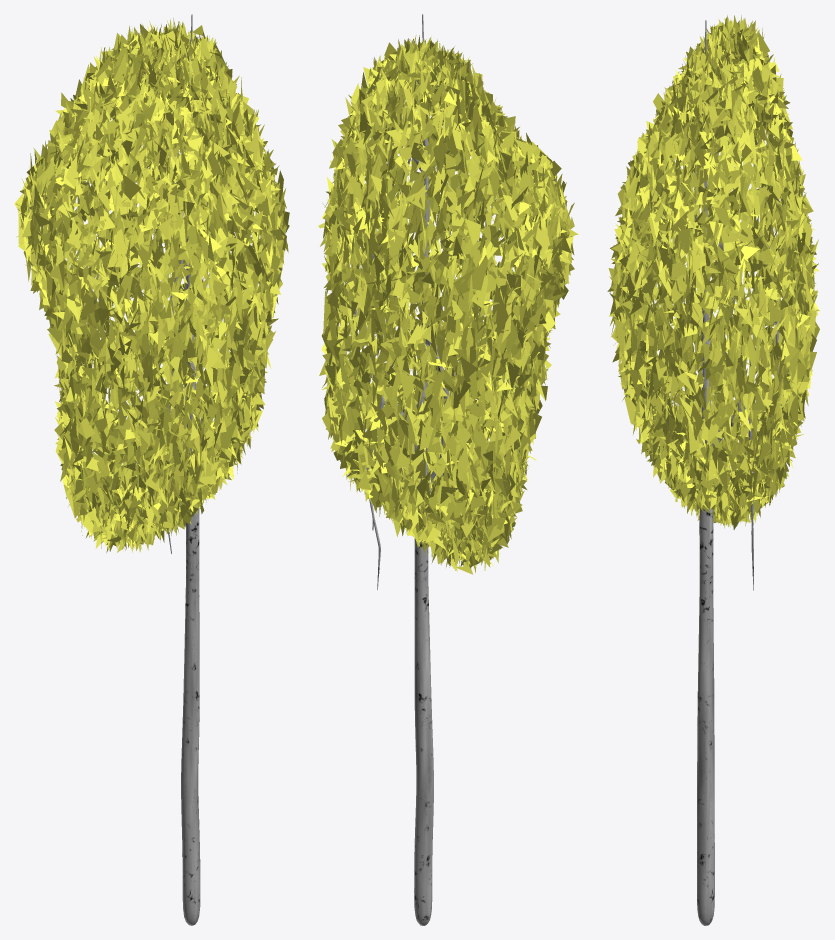
File: Leaves14.002.fbx
3 renders of one model, left to right at view 1: azimuth 30°, elevation 25°; view 2: azimuth 150°, elevation 25°; view 3: azimuth 270°, elevation 25°, orthographic.
Parts seen in each view (by area): view 1: Leaves14.002; view 2: Leaves14.002; view 3: Leaves14.002.
Part boxes in pixels (bbox=[...]): Leaves14.002: bbox=[14, 14, 289, 925]; Leaves14.002: bbox=[318, 14, 578, 925]; Leaves14.002: bbox=[607, 15, 819, 925].
Size of the model in its own units: 739 by 2574 by 550.
Materials: 2 (1 with a texture image).
